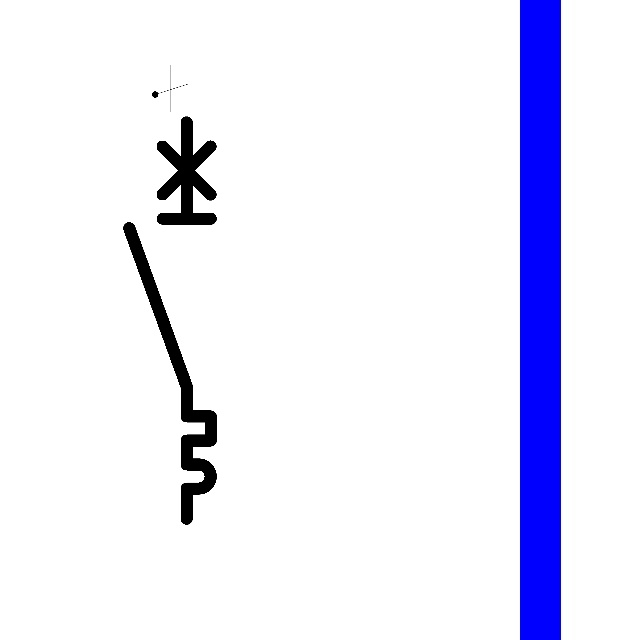interruptor_termomagnetico: (119, 112, 221, 528)
